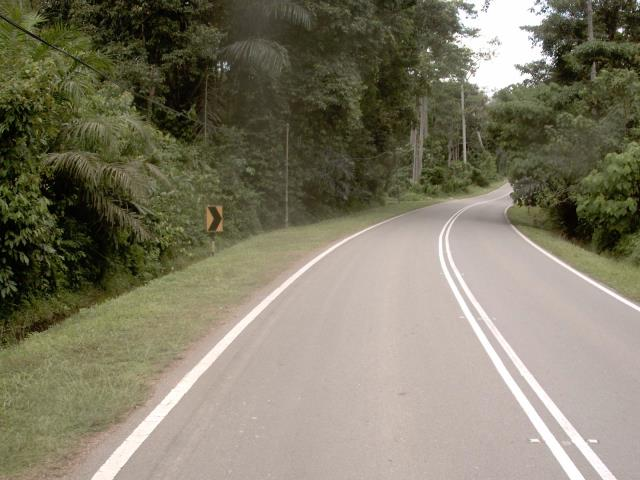traffic_sign: (198, 198, 229, 241)
